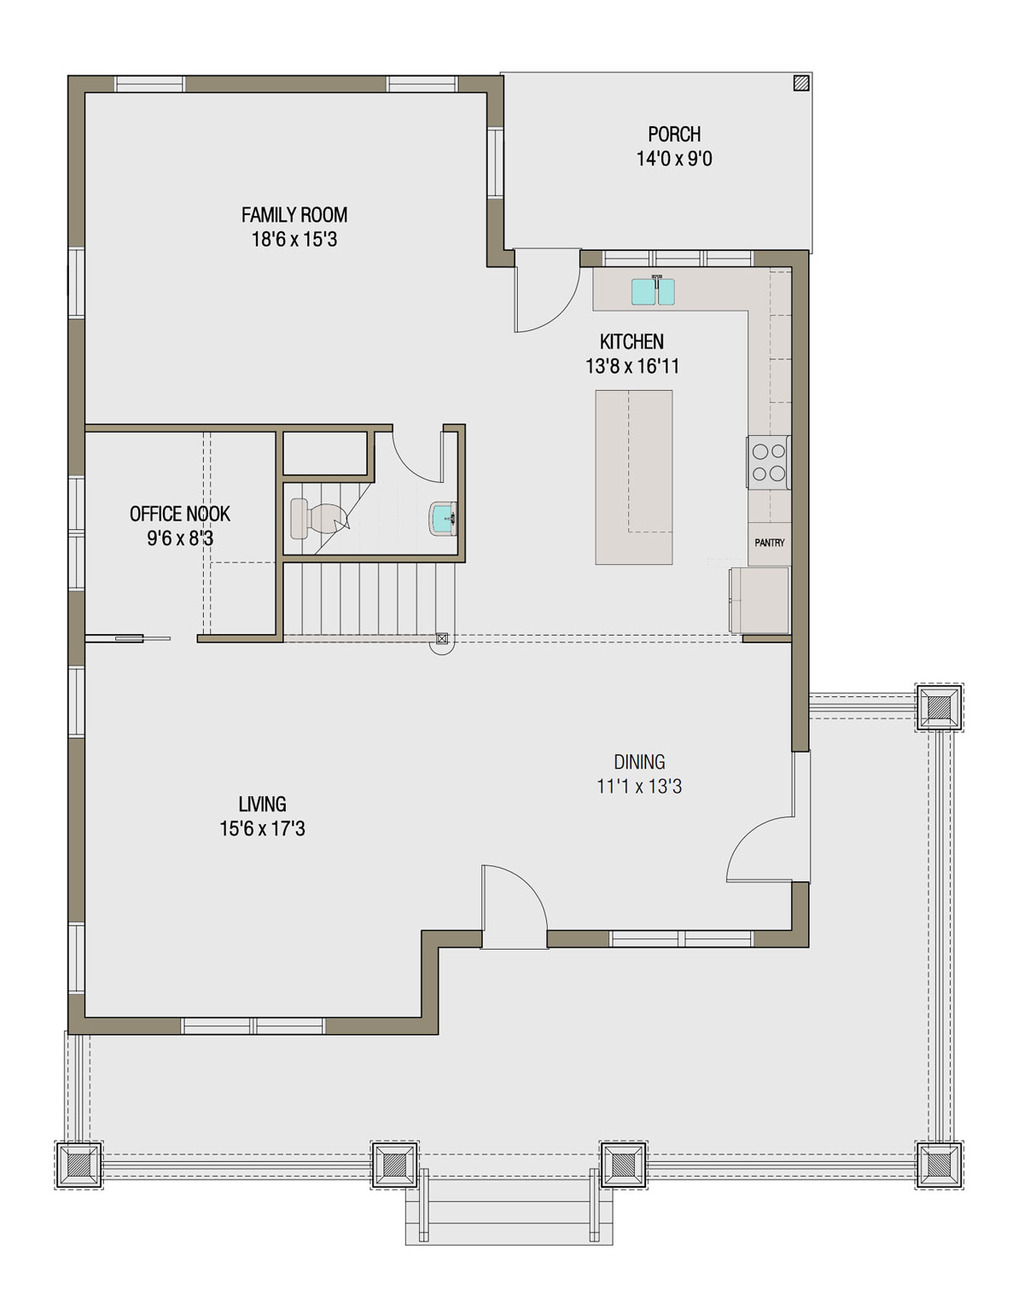door: (474, 862, 555, 950), (716, 814, 807, 882), (513, 250, 581, 338), (393, 424, 451, 492)
kitchen_bar: (751, 318, 792, 520)
large_sink: (275, 492, 355, 552)
small_sink: (429, 496, 465, 550)
stairs: (279, 556, 485, 644)
tub: (277, 434, 375, 482)
twin_sink: (603, 268, 701, 316)
window: (617, 924, 751, 948), (609, 248, 757, 268), (185, 1013, 323, 1034), (387, 68, 467, 98), (115, 72, 193, 98), (69, 478, 87, 582), (487, 126, 505, 204), (71, 246, 83, 316)
